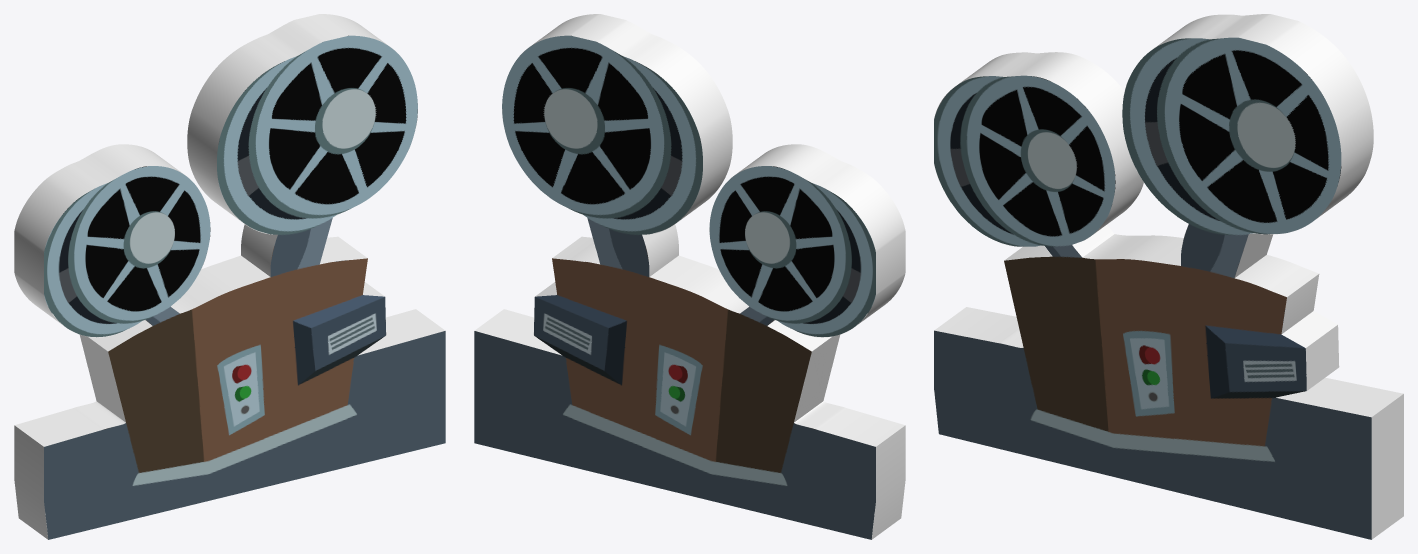
File: projector.dae
3 renders of one model, left to right at view 1: azimuth 30°, elevation 25°; view 2: azimuth 150°, elevation 25°; view 3: azimuth 330°, elevation 25°, orthographic. The views are drawn at different scales.
Parts seen in each view (by area): view 1: Layer_1; view 2: Layer_1; view 3: Layer_1.
Part boxes in pixels (box(x1,y1,x2,y2)): Layer_1: box(14, 14, 445, 539); Layer_1: box(474, 14, 905, 539); Layer_1: box(934, 14, 1403, 539).
Bounding box in the file's own units: 1889 × 1939 × 241.
Materials: 3 (3 with a texture image).
